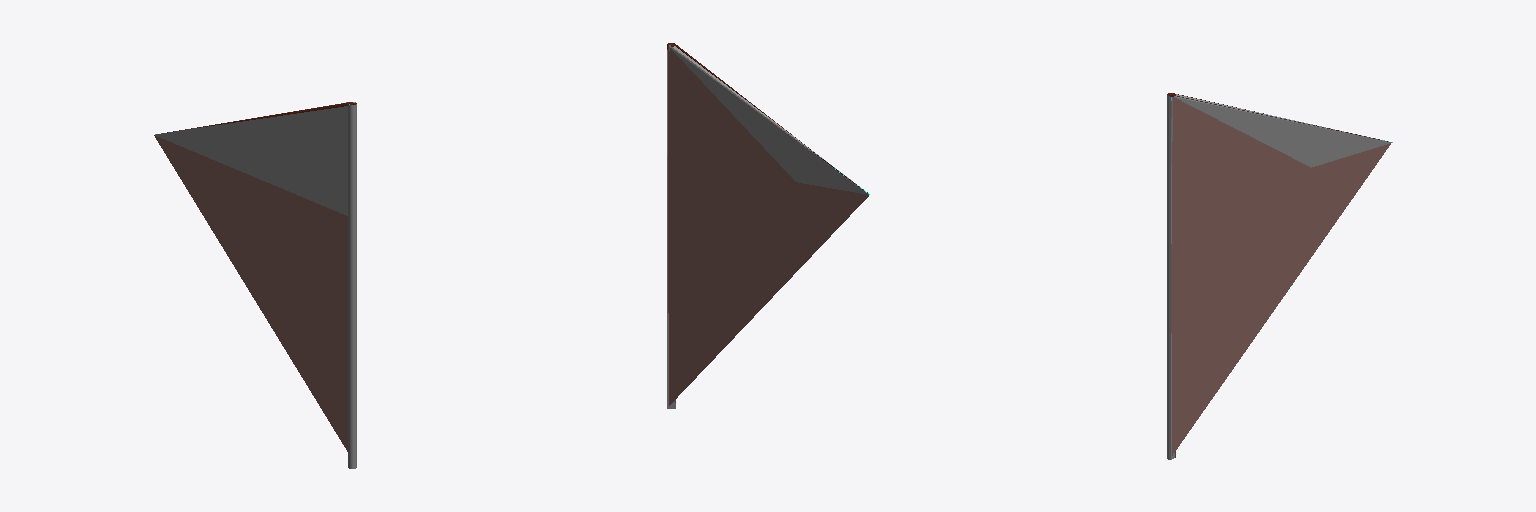
Rendered from Camp.obj.
3 renders of one model, left to right at view 1: azimuth 30°, elevation 25°; view 2: azimuth 210°, elevation 25°; view 3: azimuth 270°, elevation 25°, orthographic.
Parts seen in each view (by area): view 1: Box001, Cylinder001; view 2: Box001, Cylinder001; view 3: Box001, Cylinder001.
Boxes of the visible parts, x1,y1,x2,y2 form: Box001: [154, 102, 356, 451]; Cylinder001: [155, 102, 356, 468]; Box001: [667, 43, 868, 405]; Cylinder001: [667, 45, 868, 408]; Box001: [1167, 93, 1390, 455]; Cylinder001: [1167, 94, 1391, 459].
Bounding box in the file's own units: 29325 × 110248 × 61959.